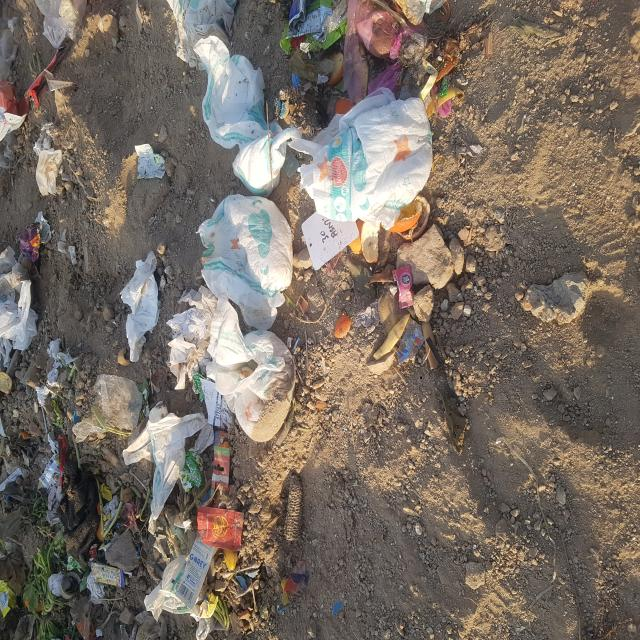electronic: (173, 535, 217, 610), (196, 505, 244, 551), (88, 559, 125, 588), (391, 264, 414, 310)
general: (30, 138, 64, 200)
